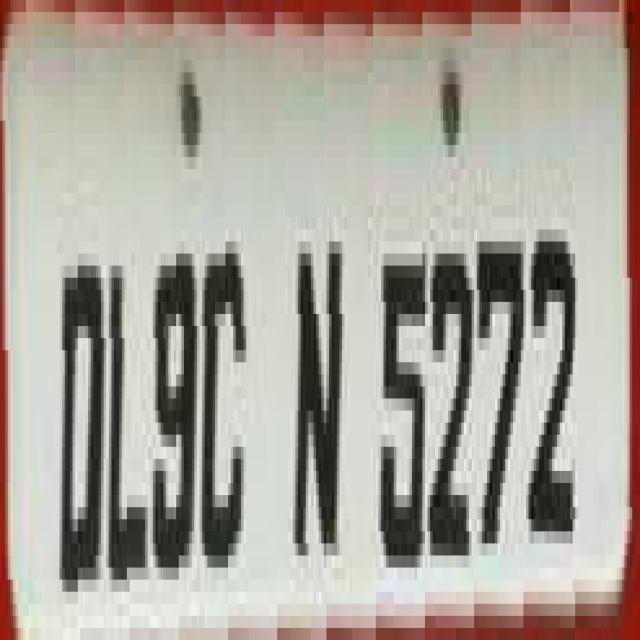license_plate: (0, 12, 604, 640)
